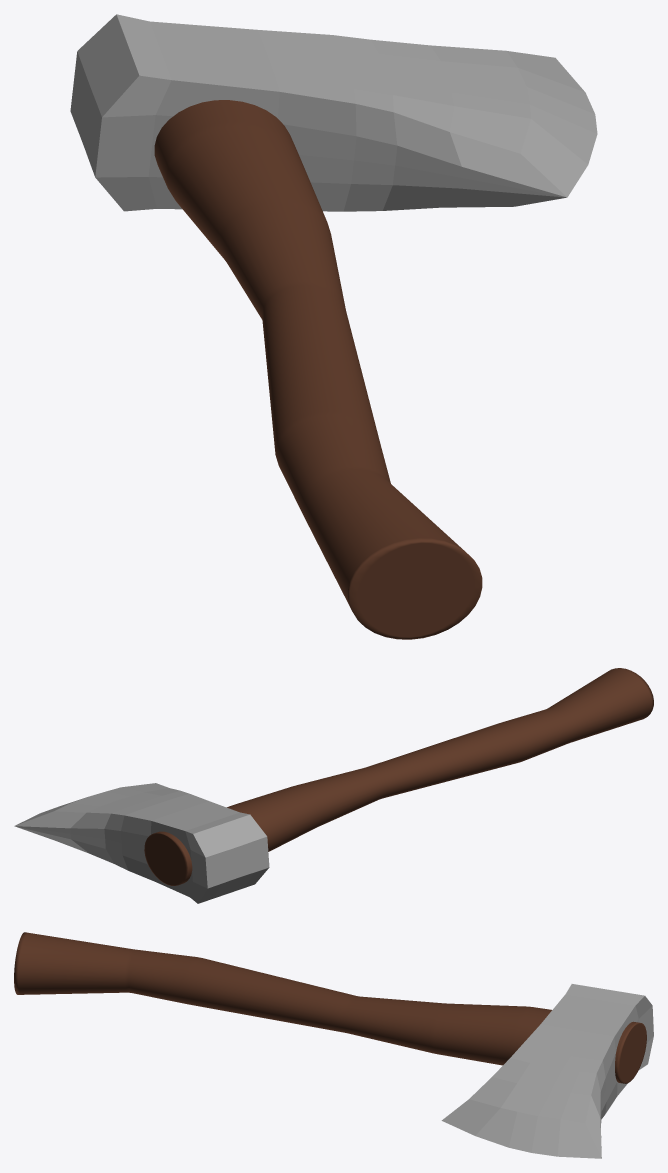
The model's file is axe.fbx.
3 renders of one model, top to bottom at view 1: azimuth 30°, elevation 25°; view 2: azimuth 150°, elevation 25°; view 3: azimuth 270°, elevation 25°, orthographic. The views are drawn at different scales.
Parts seen in each view (by area): view 1: Cube; view 2: Cube; view 3: Cube.
Boxes of the visible parts, <box> form: Cube: <box>70,14,597,639</box>; Cube: <box>14,668,653,903</box>; Cube: <box>14,932,653,1158</box>.
Bounding box in the file's own units: 280 × 50.95 × 391.
